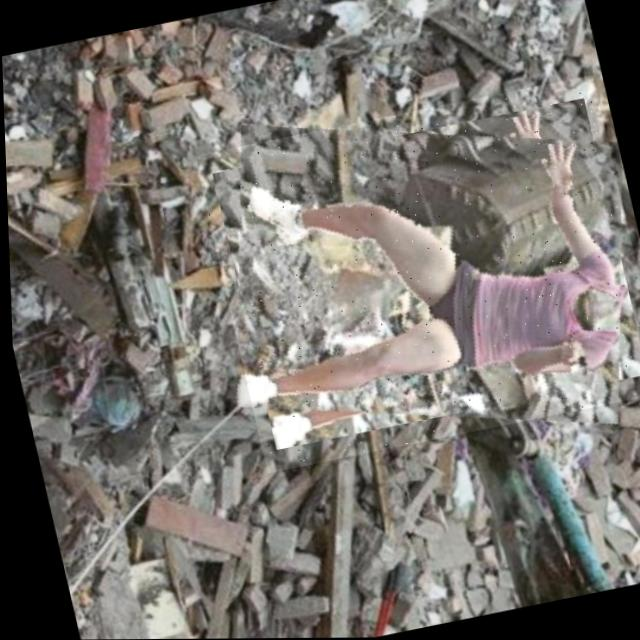Person in Rubble: (189, 75, 640, 474)
